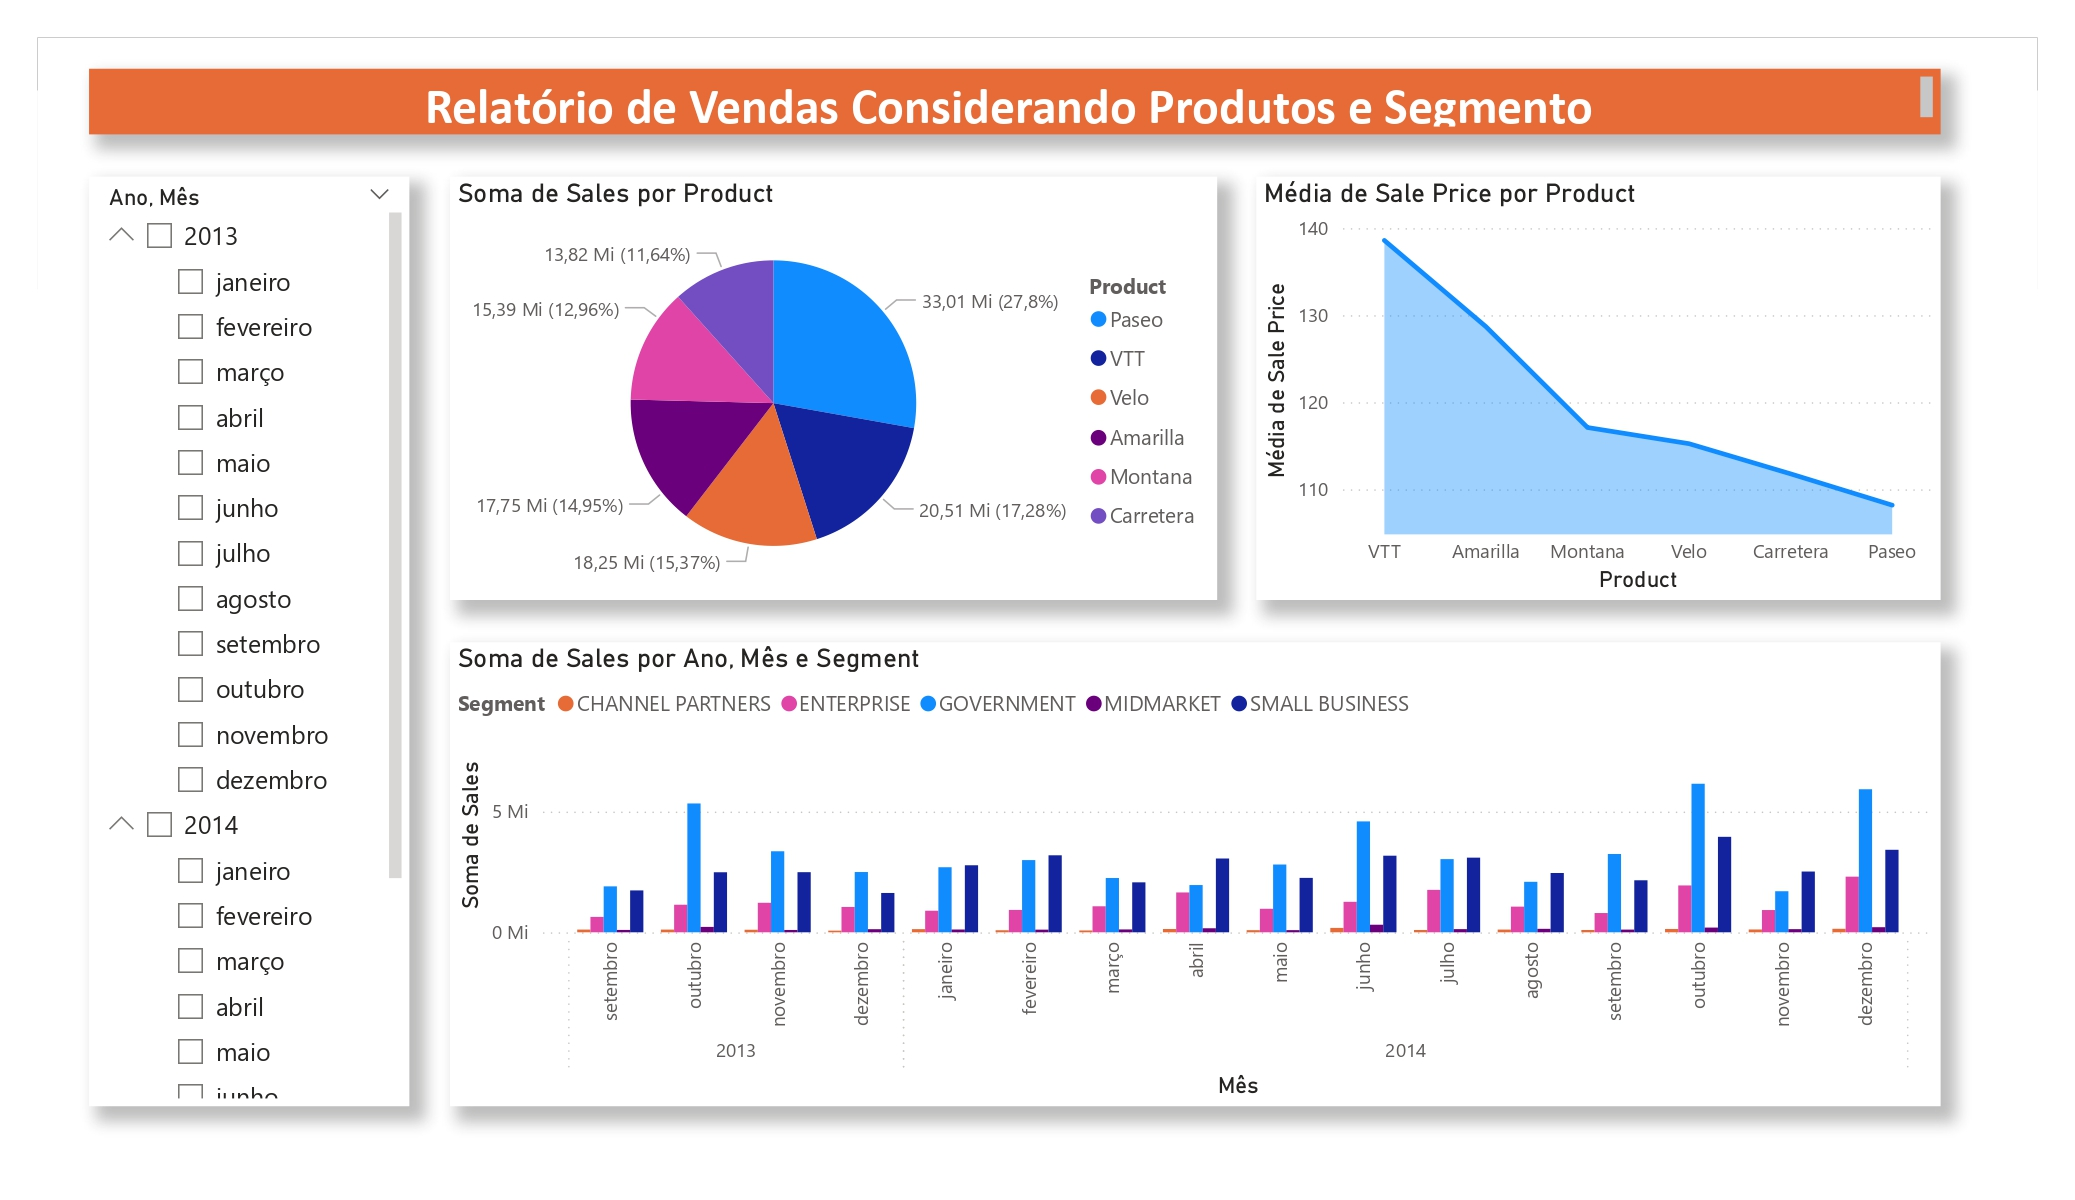

What the dashboard file says about the page in this screenshot:
{"tool":"powerbi","page":{"name":"Página 1","canvas":[1280,720],"ordinal":0},"visuals":[{"type":"pieChart","fields":{"Y":["Sum(financials. Sales)"],"Category":["financials.Product"]},"box":[263.5,89.3,491,270.7],"z":0},{"type":"areaChart","fields":{"Category":["financials.Product"],"Y":["Avg(financials.Sale Price)"]},"box":[780.5,89.3,437.8,270.7],"z":1000},{"type":"clusteredColumnChart","fields":{"Y":["Sum(financials. Sales)"],"Series":["financials.Segment"],"Category":["financials.Date.Variation.Hierarquia de datas.Ano","financials.Date.Variation.Hierarquia de datas.Mês"]},"box":[263.5,387.4,954.7,296.6],"z":2000},{"type":"slicer","fields":{"Values":["financials.Date.Variation.Hierarquia de datas.Ano","financials.Date.Variation.Hierarquia de datas.Mês"]},"box":[33.1,89.3,204.5,594.7],"z":3000},{"type":"textbox","box":[33.1,20.2,1185.1,41.8],"z":4000}]}

Visuals, with their boxes in screenshot pixels (x1, y1, x2, y2):
pieChart - Sum(financials. Sales) x financials.Product: <region>449, 177, 1216, 600</region>
areaChart - financials.Product x Avg(financials.Sale Price): <region>1257, 177, 1941, 600</region>
clusteredColumnChart - Sum(financials. Sales) x financials.Segment: <region>449, 643, 1941, 1106</region>
slicer - financials.Date.Variation.Hierarquia de datas.Ano x financials.Date.Variation.Hierarquia de datas.Mês: <region>89, 177, 409, 1106</region>
textbox: <region>89, 69, 1941, 134</region>
